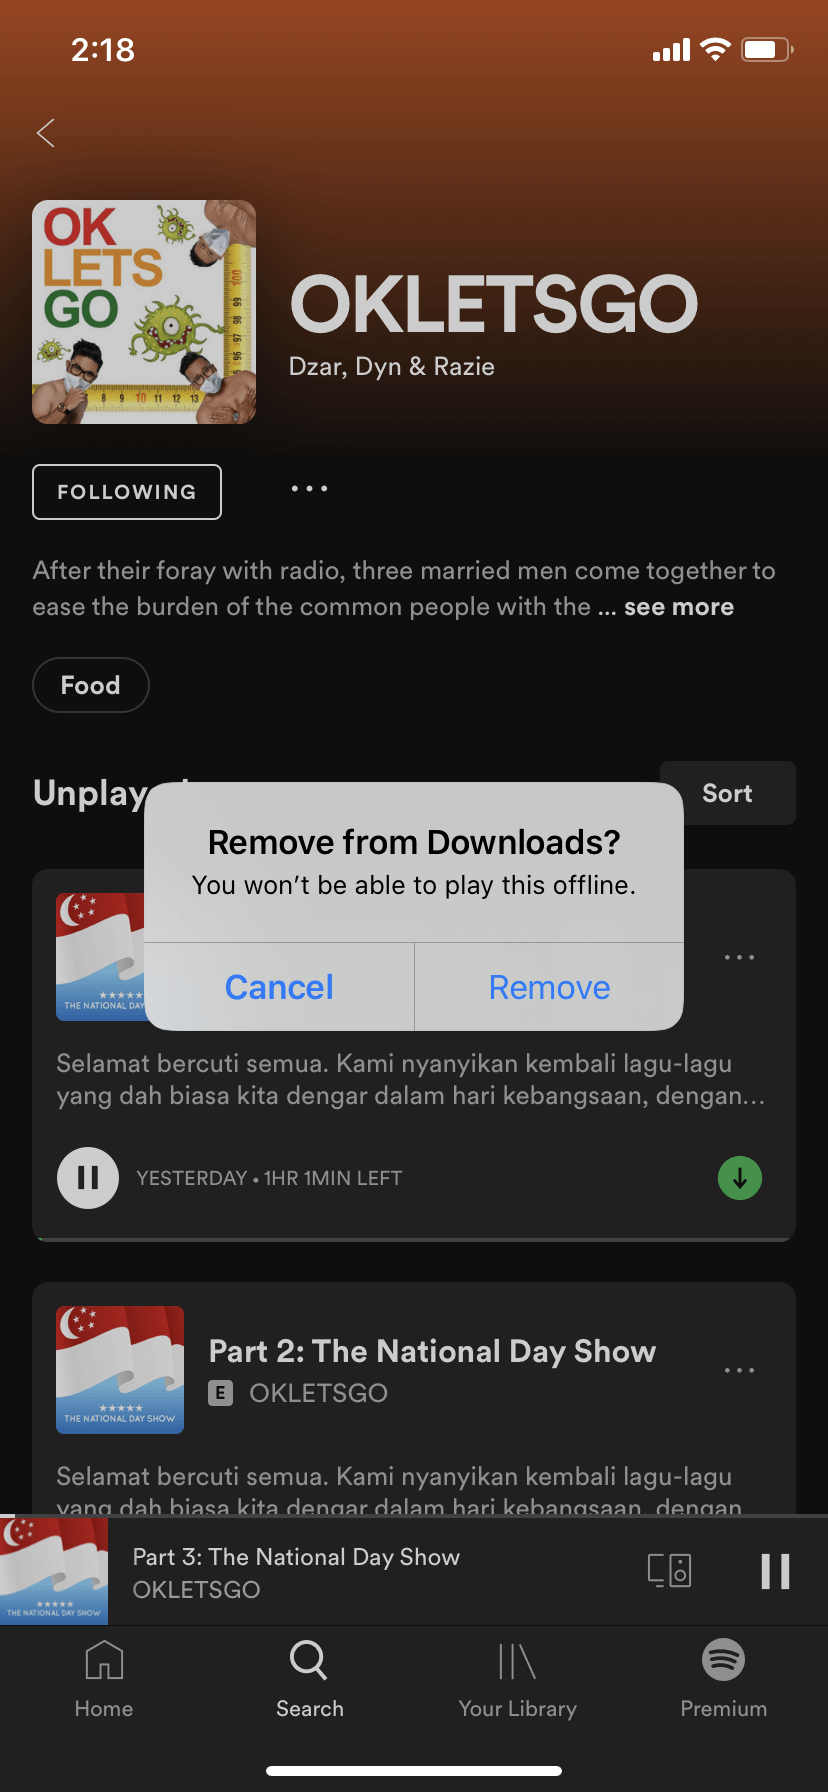Buttons: (22, 448, 236, 530), (8, 81, 87, 175), (49, 1136, 127, 1223), (266, 448, 351, 525), (629, 1531, 707, 1605), (707, 1328, 777, 1395), (708, 922, 772, 992), (746, 1531, 809, 1601), (710, 1144, 772, 1208)
